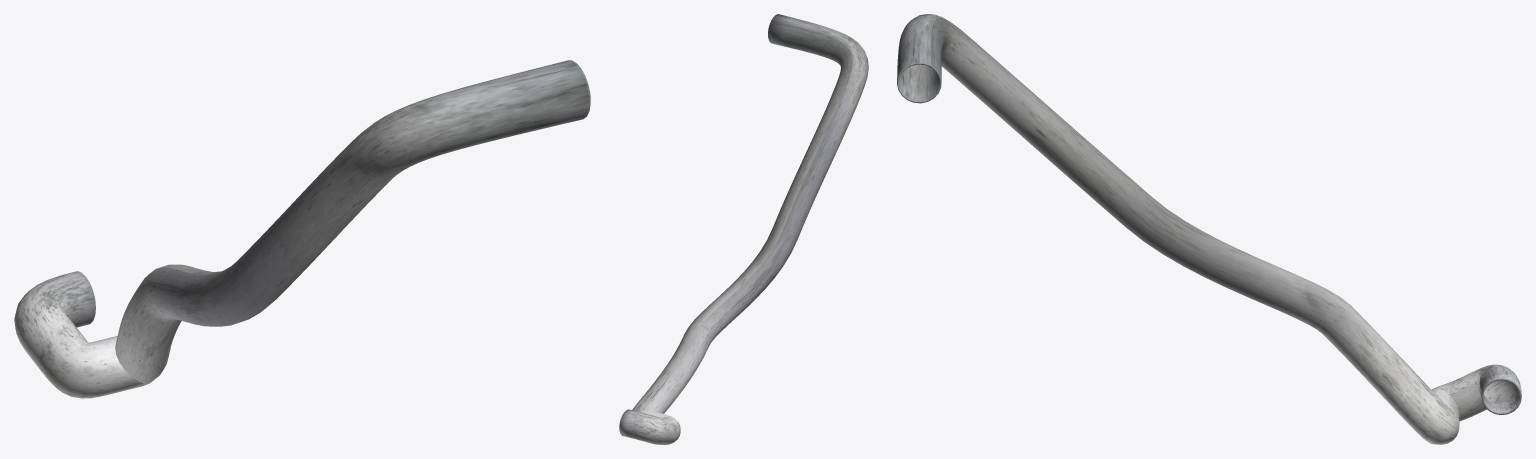
File: intercooler_manifold_weber_tube.obj
3 views of the same model, side by side, from view 1: azimuth 30°, elevation 25°; view 2: azimuth 150°, elevation 25°; view 3: azimuth 270°, elevation 25° (orthographic). The views are drawn at different scales.
Parts seen in each view (by area): view 1: Intercooler-Manifold-Weber___BezierCurve.002; view 2: Intercooler-Manifold-Weber___BezierCurve.002; view 3: Intercooler-Manifold-Weber___BezierCurve.002.
Boxes of the visible parts, bbox=[...] form: Intercooler-Manifold-Weber___BezierCurve.002: bbox=[14, 60, 590, 398]; Intercooler-Manifold-Weber___BezierCurve.002: bbox=[619, 14, 868, 444]; Intercooler-Manifold-Weber___BezierCurve.002: bbox=[897, 14, 1521, 444].
Size of the model in its own units: 0.1904 by 0.5054 by 0.695.
